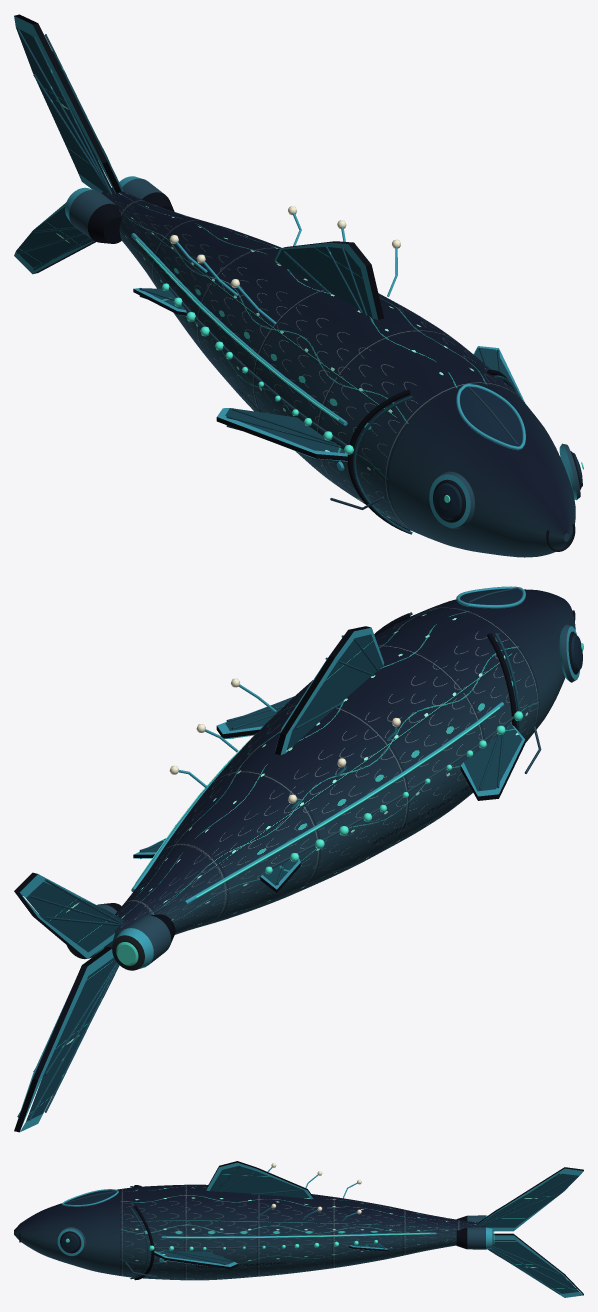
The picture shows the model from 3 angles, top to bottom: view 1: azimuth 30°, elevation 25°; view 2: azimuth 150°, elevation 25°; view 3: azimuth 270°, elevation 25°; orthographic projection. The views are drawn at different scales.
Visible parts, largest first — view 1: sardine_hull; view 2: sardine_hull; view 3: sardine_hull.
Boxes of the visible parts, left/top/right/bottom form: sardine_hull: left=14, top=14, right=583, bottom=557; sardine_hull: left=14, top=586, right=583, bottom=1132; sardine_hull: left=14, top=1161, right=583, bottom=1297.
Size of the model in its own units: 4.8 by 4.25 by 16.2.
1 material, 1 textured.
